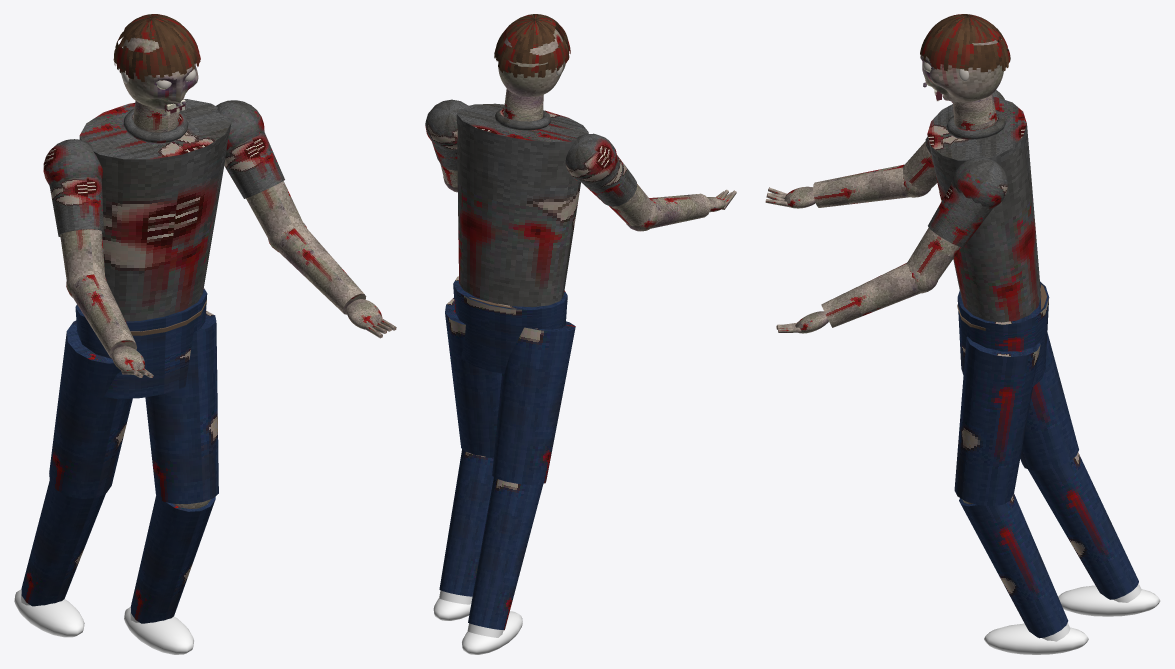
The model's file is Zombie_115.glb.
3 renders of one model, left to right at view 1: azimuth 30°, elevation 25°; view 2: azimuth 150°, elevation 25°; view 3: azimuth 270°, elevation 25°, orthographic. The views are drawn at different scales.
Parts seen in each view (by area): view 1: Zombie_115, object 40, object 10, object 3, object 16, object 11, object 4; view 2: Zombie_115, object 40, object 16, object 3, object 39; view 3: Zombie_115, object 40, object 10, object 3, object 16.
Boxes of the visible parts, left/top/right/bottom form: Zombie_115: left=14, top=99, right=303, bottom=654; object 40: left=113, top=14, right=200, bottom=79; object 10: left=277, top=225, right=366, bottom=314; object 3: left=71, top=274, right=136, bottom=358; object 16: left=121, top=37, right=198, bottom=110; object 11: left=346, top=299, right=382, bottom=329; object 4: left=112, top=346, right=144, bottom=374; Zombie_115: left=425, top=88, right=654, bottom=654; object 40: left=494, top=14, right=570, bottom=76; object 16: left=498, top=29, right=565, bottom=96; object 3: left=649, top=193, right=710, bottom=228; object 39: left=496, top=19, right=566, bottom=77; Zombie_115: left=903, top=90, right=1160, bottom=654; object 40: left=920, top=14, right=1010, bottom=69; object 10: left=821, top=263, right=920, bottom=327; object 3: left=813, top=164, right=910, bottom=207; object 16: left=920, top=40, right=1003, bottom=103.
Bounding box in the file's own units: 0.8283 × 1.95 × 1.13.
Materials: 16 (6 with a texture image).
